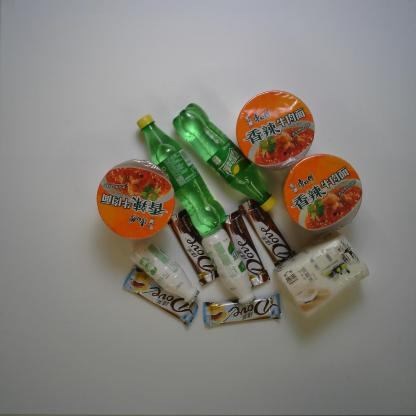Chocolate: (122, 264, 198, 327), (237, 196, 296, 269), (222, 207, 270, 290), (166, 209, 217, 286), (201, 292, 282, 327)
Drink: (170, 102, 276, 212), (136, 114, 228, 233)
Instant Noodles: (282, 154, 364, 235), (235, 89, 316, 171), (94, 160, 177, 240)
Milk: (128, 238, 202, 304), (203, 228, 258, 306)
Tissue: (274, 230, 369, 321)
